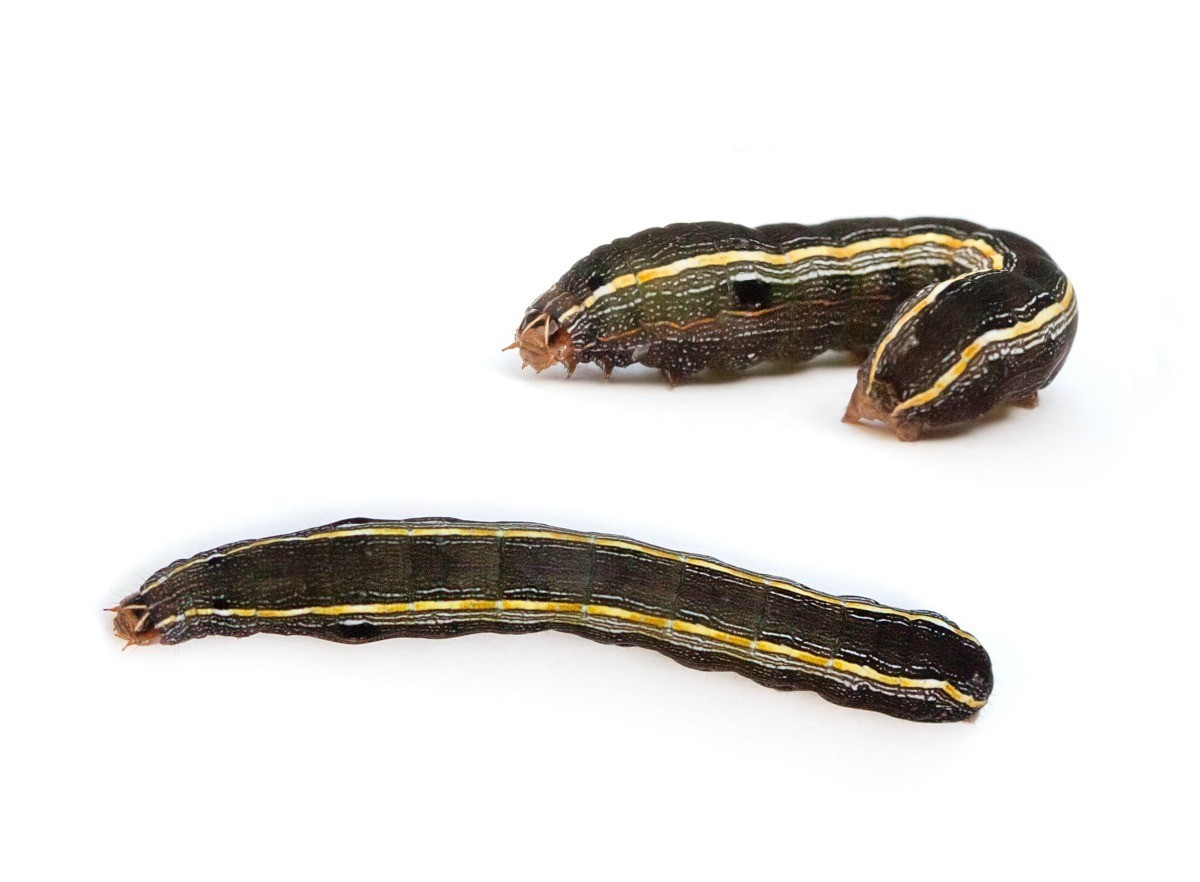Armyworms: (88, 497, 1016, 810), (488, 198, 1098, 457)
